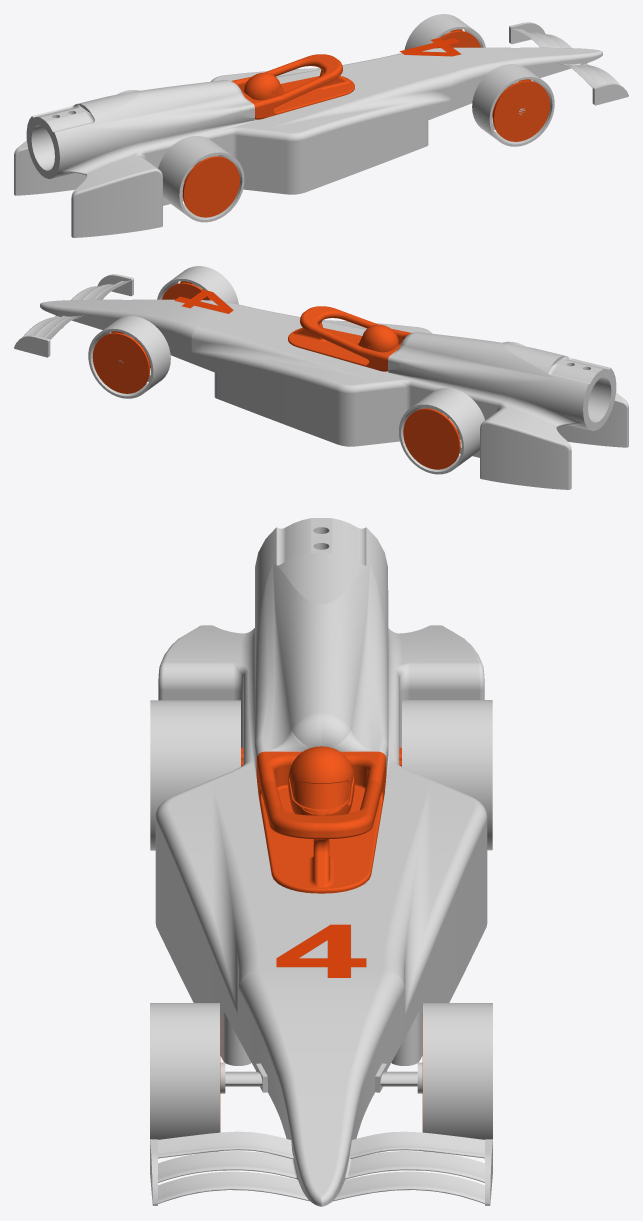
Rendered from vehicle.gltf.
The picture shows the model from 3 angles, top to bottom: view 1: azimuth 30°, elevation 25°; view 2: azimuth 150°, elevation 25°; view 3: azimuth 270°, elevation 25°; orthographic projection. The views are drawn at different scales.
Visible parts, largest first — view 1: dorsz1_teaser, 4; view 2: dorsz1_teaser, 4; view 3: dorsz1_teaser, 4.
Part boxes in pixels (left/top/right/bottom): dorsz1_teaser: left=14, top=14, right=628, bottom=237; 4: left=399, top=38, right=461, bottom=56; dorsz1_teaser: left=14, top=266, right=628, bottom=489; 4: left=174, top=290, right=233, bottom=313; dorsz1_teaser: left=150, top=518, right=492, bottom=1206; 4: left=276, top=924, right=366, bottom=977.
Size of the model in its own units: 3.82 by 0.6822 by 1.01.
3 materials, 1 textured.
